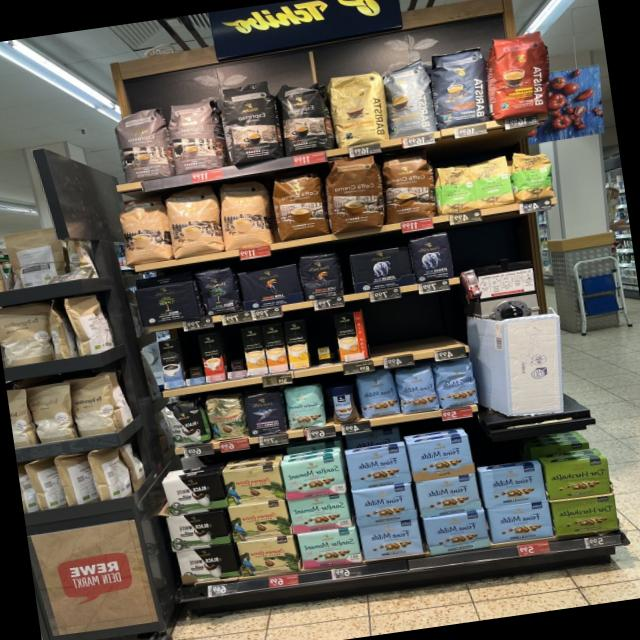AB Bohne: (408, 230, 456, 286)
AB Gemahlen: (348, 244, 416, 294)
Athiopien Bohne: (508, 146, 557, 204)
Athiopien Gemahlen: (431, 159, 478, 217), (471, 153, 516, 210)
BM Bohne: (197, 265, 241, 317)
BM Gemahlen: (134, 280, 202, 328), (160, 472, 229, 518), (164, 509, 233, 553), (175, 543, 241, 586)
BW Bohne: (166, 395, 212, 449)
Barista CB: (324, 66, 394, 152)
Barista CC: (379, 58, 439, 142)
Barista Espresso: (426, 44, 494, 131)
Barista Kolumbien: (479, 28, 559, 123)
C Fino Bohne: (243, 388, 290, 439)
CC Mild: (214, 176, 278, 254), (163, 184, 226, 260), (114, 194, 174, 268)
CC Vollmundig 36 Pads: (319, 153, 388, 237), (376, 148, 439, 226), (268, 168, 329, 244)
Colombia BB Bohne: (203, 391, 250, 444)
Colombia BB Gemahlen: (226, 499, 294, 543), (221, 463, 286, 508), (235, 535, 301, 578)
Empty Shelf: (365, 296, 460, 358), (304, 316, 340, 368), (178, 336, 206, 386), (221, 330, 247, 380)
Espresso Aromatisch: (111, 106, 176, 186), (166, 97, 228, 177)
Espresso Kraftig: (216, 78, 286, 170), (275, 78, 336, 158)
FM Bohne: (432, 356, 479, 411), (394, 361, 439, 416), (355, 368, 401, 421)
FM Gemahlen: (422, 509, 492, 556), (407, 434, 474, 482), (480, 462, 548, 509), (344, 445, 413, 491), (486, 500, 555, 546), (415, 474, 482, 520), (350, 482, 418, 527), (358, 518, 425, 561)
FM Instant: (327, 382, 362, 426)
Herzhatfe Mundig: (543, 457, 613, 502), (550, 494, 620, 538)
LG Bohne: (296, 249, 346, 303)
LG Gemahlen: (237, 262, 304, 311)
SM Bohne: (282, 382, 330, 431)
SM Gemahlen: (280, 454, 347, 501), (296, 526, 362, 570), (286, 492, 354, 534)
Simo CCMild bigpack: (282, 319, 312, 371)
Simo CCVollmundig: (332, 310, 370, 363)
Simo CCVollmundig bigpack: (262, 322, 290, 375)
Simo Decaff: (240, 326, 268, 377)
Simo Es Elegant: (199, 332, 227, 383)
Simo Kaffee Mild: (156, 338, 185, 390)
